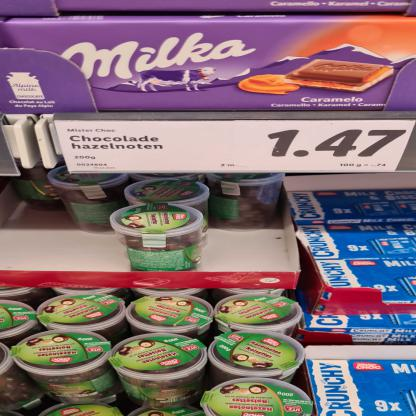prtg: (54, 121, 416, 173)
